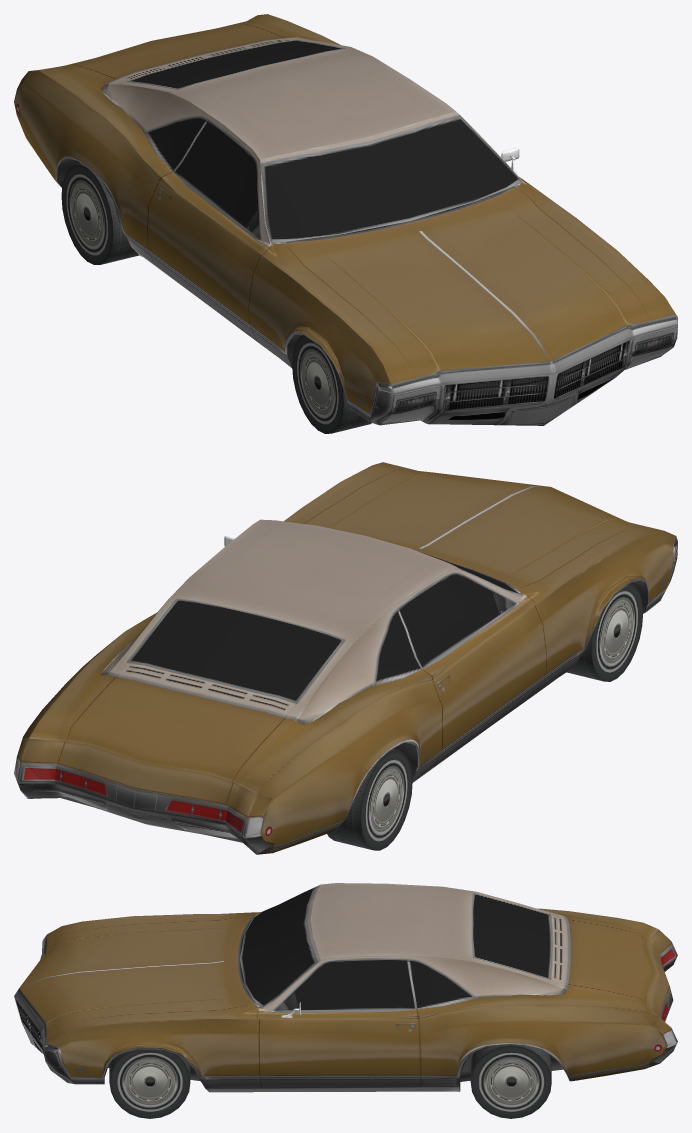
Rendered from car 9.fbx.
The picture shows the model from 3 angles, top to bottom: view 1: azimuth 30°, elevation 25°; view 2: azimuth 150°, elevation 25°; view 3: azimuth 270°, elevation 25°; orthographic projection. The views are drawn at different scales.
Parts seen in each view (by area): view 1: body, B_L_tyer, L_tyer; view 2: body, B_L_tyer, L_tyer; view 3: body, B_R_tyer, R_tyer.
Part boxes in pixels (x1,y1,x2,y2): body: [14, 14, 677, 425]; B_L_tyer: [61, 163, 139, 264]; L_tyer: [292, 335, 371, 433]; body: [14, 462, 677, 854]; B_L_tyer: [327, 749, 412, 850]; L_tyer: [566, 582, 643, 681]; body: [14, 883, 677, 1092]; B_R_tyer: [470, 1044, 551, 1118]; R_tyer: [109, 1049, 190, 1118].
Size of the model in its own units: 656 by 370 by 1542.
Materials: 2 (2 with a texture image).
